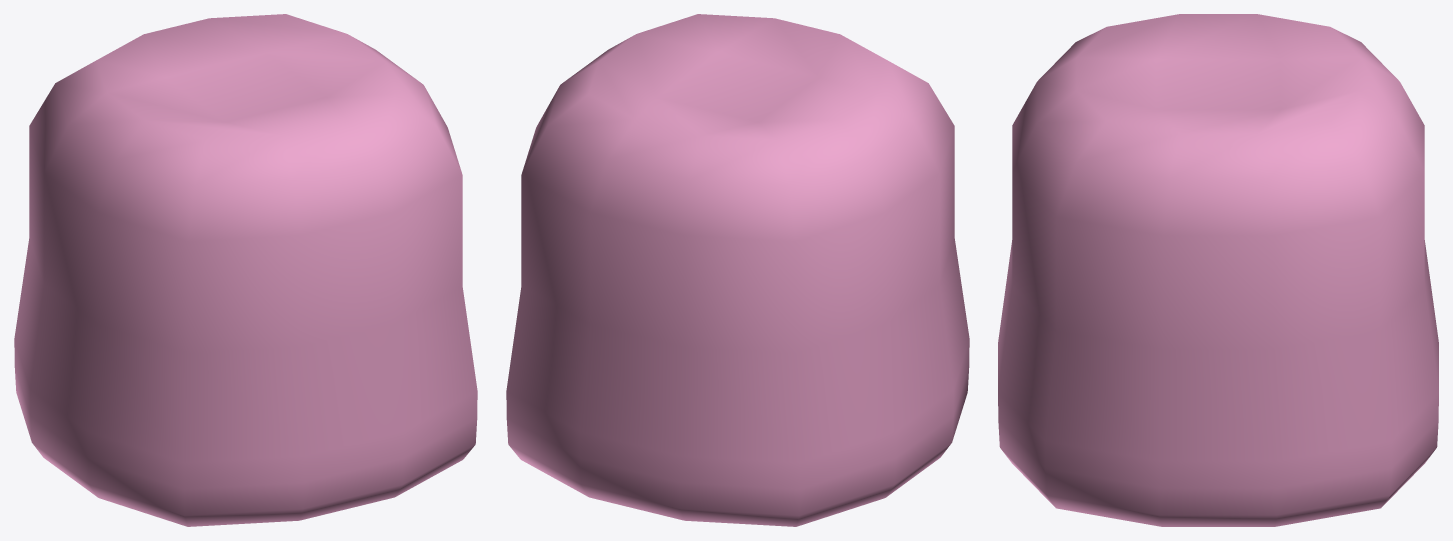
File: smallMellow.fbx
The picture shows the model from 3 angles, left to right: view 1: azimuth 30°, elevation 25°; view 2: azimuth 150°, elevation 25°; view 3: azimuth 270°, elevation 25°; orthographic projection. The views are drawn at different scales.
Parts seen in each view (by area): view 1: MellowSmol2; view 2: MellowSmol2; view 3: MellowSmol2.
Boxes of the visible parts, x1,y1,x2,y2 form: MellowSmol2: [14, 14, 477, 526]; MellowSmol2: [506, 14, 969, 526]; MellowSmol2: [998, 14, 1438, 526].
Size of the model in its own units: 87.15 by 79.78 by 87.15.
